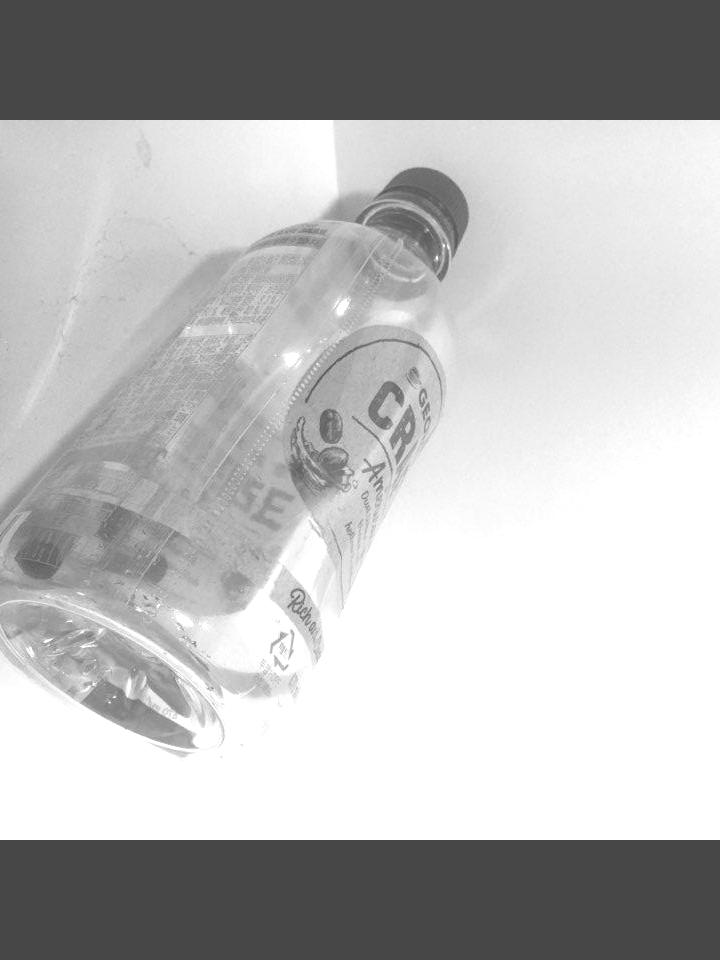bottle: (0, 164, 467, 767)
